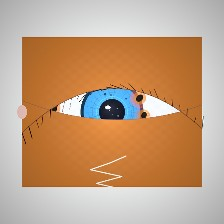foreign_body_visible: (127, 101, 161, 129)
